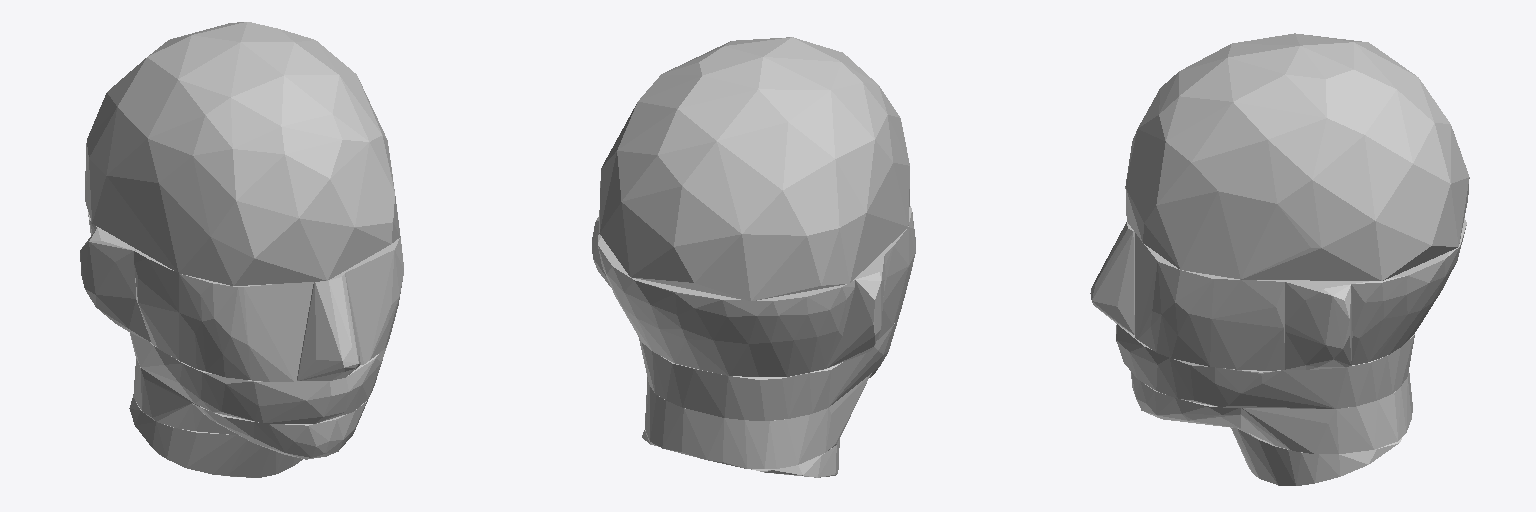
Rendered from BaseHeadMeshes_v5_female_cropped_reduced_compressed_vhacd.obj.
3 views of the same model, side by side, from view 1: azimuth 30°, elevation 25°; view 2: azimuth 150°, elevation 25°; view 3: azimuth 270°, elevation 25° (orthographic).
Parts seen in each view (by area): view 1: convex_1, convex_5, convex_2, convex_0, convex_6, convex_7, convex_4, convex_3; view 2: convex_1, convex_8, convex_3, convex_2, convex_7, convex_5, convex_0; view 3: convex_1, convex_5, convex_2, convex_3, convex_8, convex_7, convex_0, convex_6, convex_4.
Boxes of the visible parts, x1=… form: convex_1: x1=85, y1=22, x2=400, y2=285; convex_5: x1=134, y1=237, x2=403, y2=381; convex_2: x1=130, y1=333, x2=387, y2=423; convex_0: x1=129, y1=394, x2=302, y2=477; convex_6: x1=297, y1=273, x2=360, y2=380; convex_7: x1=80, y1=227, x2=150, y2=341; convex_4: x1=192, y1=400, x2=367, y2=459; convex_3: x1=133, y1=359, x2=237, y2=434; convex_1: x1=599, y1=37, x2=909, y2=300; convex_8: x1=598, y1=234, x2=854, y2=376; convex_3: x1=645, y1=374, x2=870, y2=468; convex_2: x1=638, y1=317, x2=898, y2=420; convex_7: x1=592, y1=217, x2=884, y2=368; convex_5: x1=877, y1=206, x2=915, y2=339; convex_0: x1=642, y1=430, x2=839, y2=477; convex_1: x1=1125, y1=33, x2=1469, y2=280; convex_5: x1=1135, y1=233, x2=1284, y2=370; convex_2: x1=1116, y1=324, x2=1414, y2=408; convex_3: x1=1241, y1=372, x2=1412, y2=453; convex_8: x1=1351, y1=218, x2=1466, y2=365; convex_7: x1=1285, y1=280, x2=1350, y2=369; convex_0: x1=1231, y1=428, x2=1401, y2=485; convex_6: x1=1090, y1=222, x2=1134, y2=334; convex_4: x1=1131, y1=372, x2=1240, y2=428.
Size of the model in its own units: 0.1732 by 0.243 by 0.201.